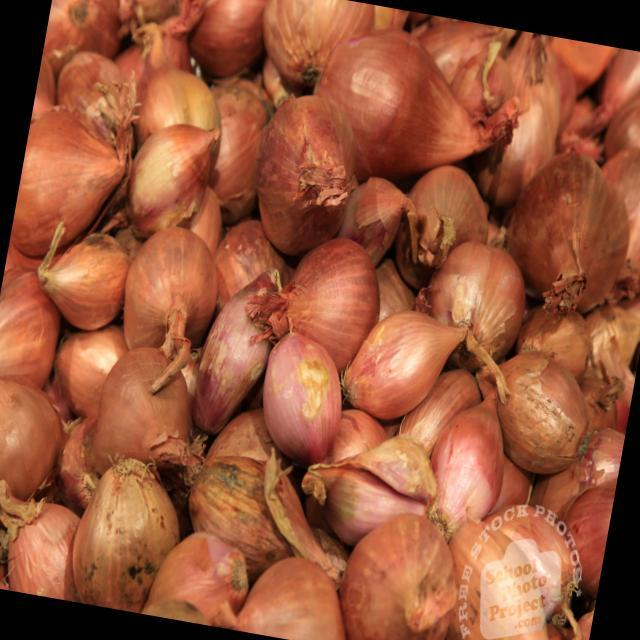ONIONS: (442, 489, 611, 640), (244, 82, 364, 254), (60, 444, 178, 616), (482, 336, 612, 488), (332, 507, 465, 640), (346, 284, 468, 416), (10, 105, 119, 249), (255, 322, 366, 462), (424, 389, 524, 527), (241, 517, 353, 640), (118, 218, 226, 344), (188, 415, 290, 544), (280, 238, 392, 342), (0, 253, 73, 385), (0, 369, 69, 508), (122, 116, 215, 214)
